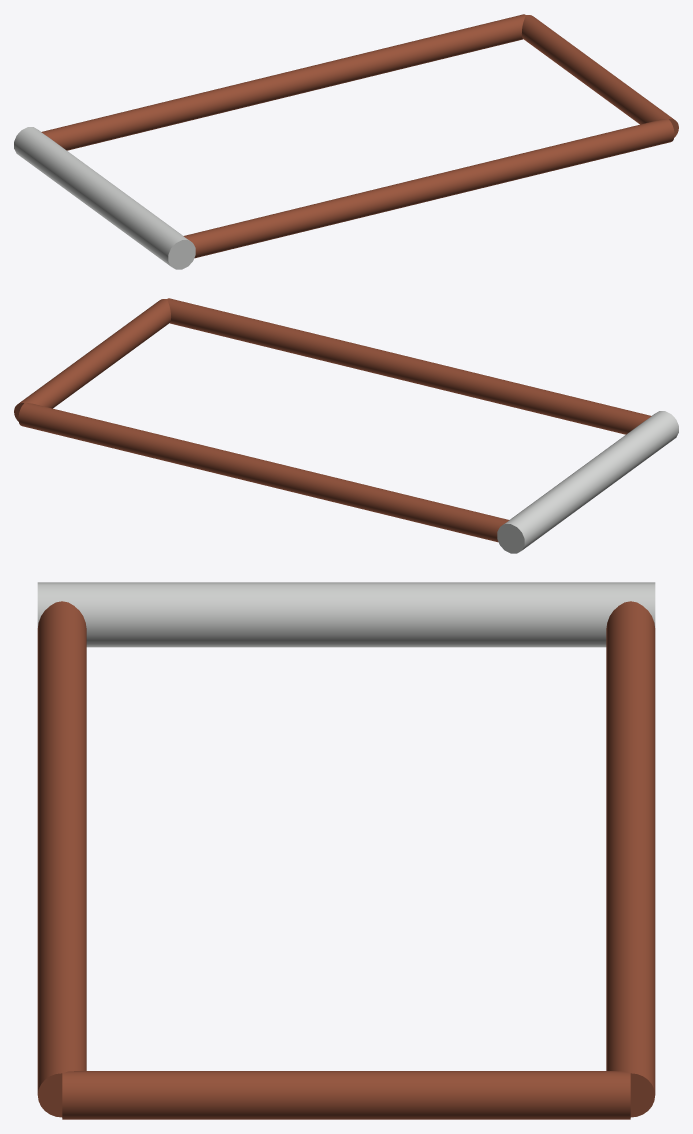
File: mobile_platform_steps_gate.glb
The picture shows the model from 3 angles, top to bottom: view 1: azimuth 30°, elevation 25°; view 2: azimuth 150°, elevation 25°; view 3: azimuth 270°, elevation 25°; orthographic projection. The views are drawn at different scales.
Parts seen in each view (by area): view 1: mobile_platform_steps_gate.001; view 2: mobile_platform_steps_gate.001; view 3: mobile_platform_steps_gate.001.
Boxes of the visible parts, x1,y1,x2,y2 form: mobile_platform_steps_gate.001: [14, 14, 678, 269]; mobile_platform_steps_gate.001: [14, 298, 678, 553]; mobile_platform_steps_gate.001: [37, 582, 655, 1119].
Bounding box in the file's own units: 0.7345 × 0.04 × 0.38.
